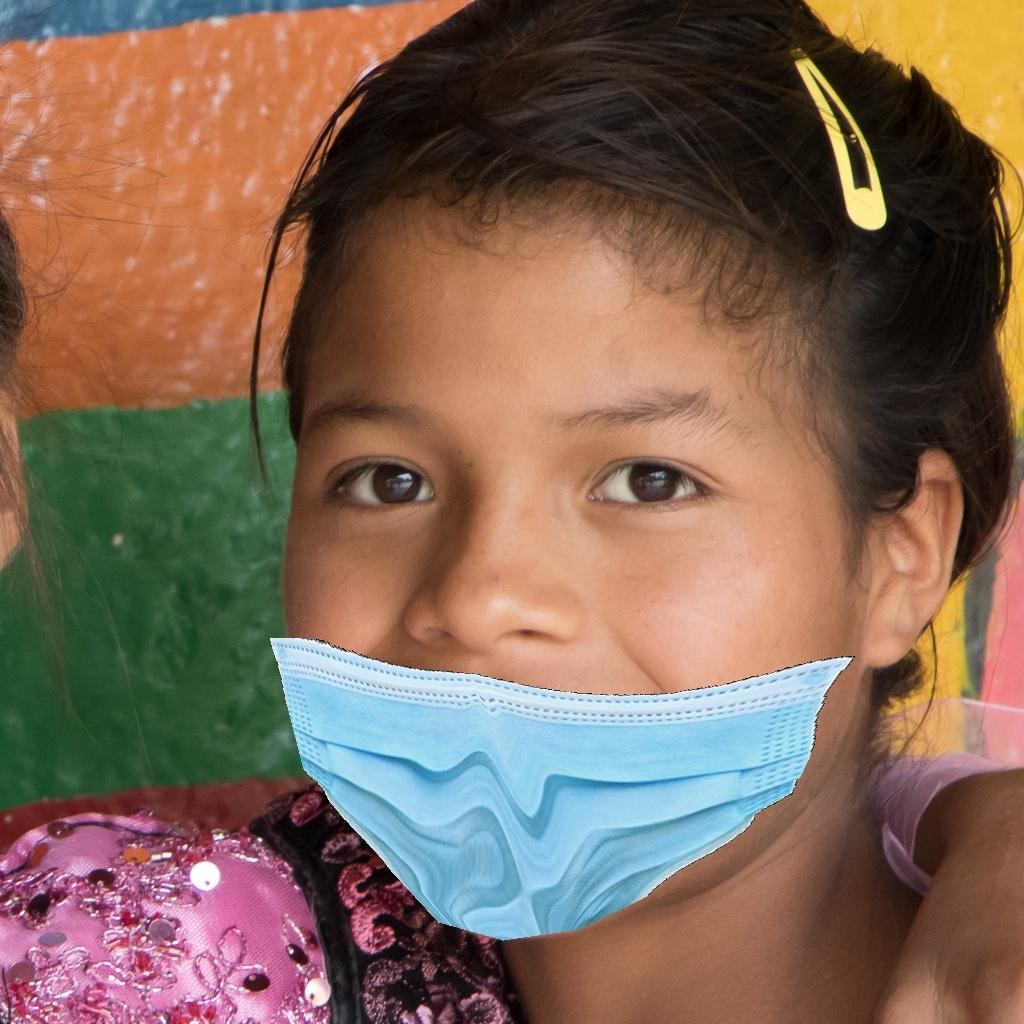Máscara Incorreta: (296, 252, 818, 910)
